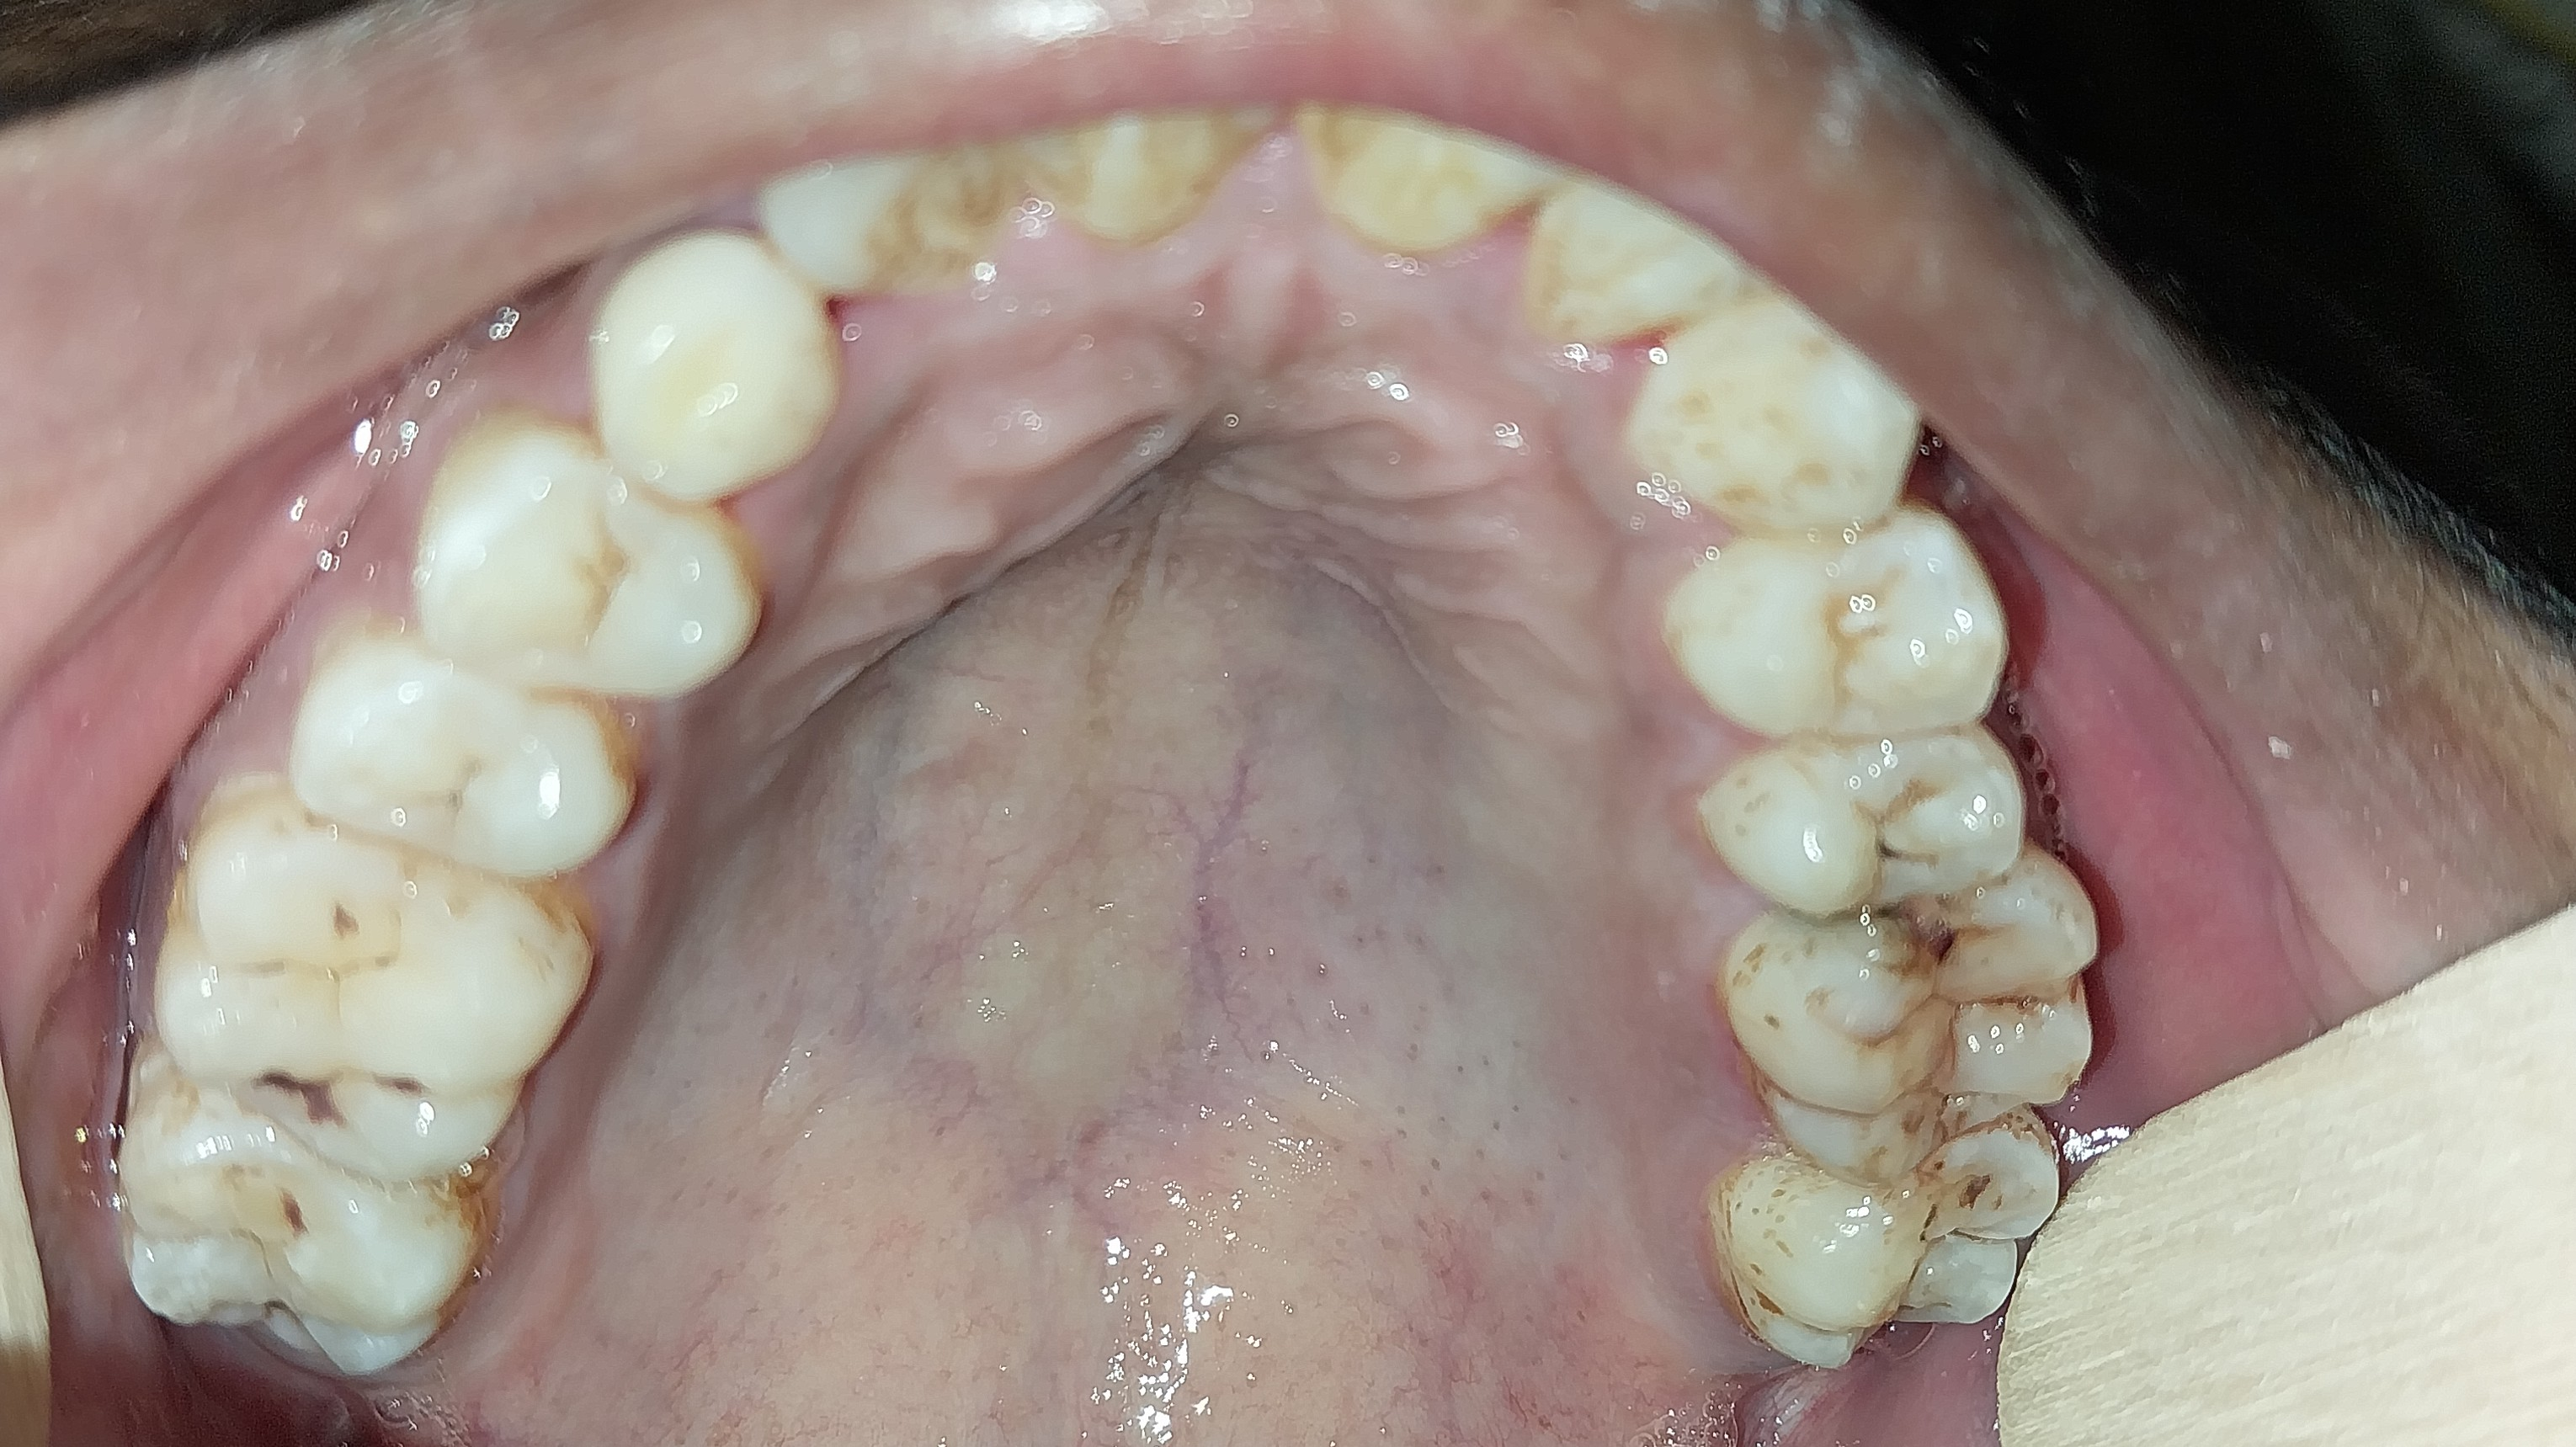D: (1709, 853, 2100, 1195), (1702, 736, 2025, 918)
